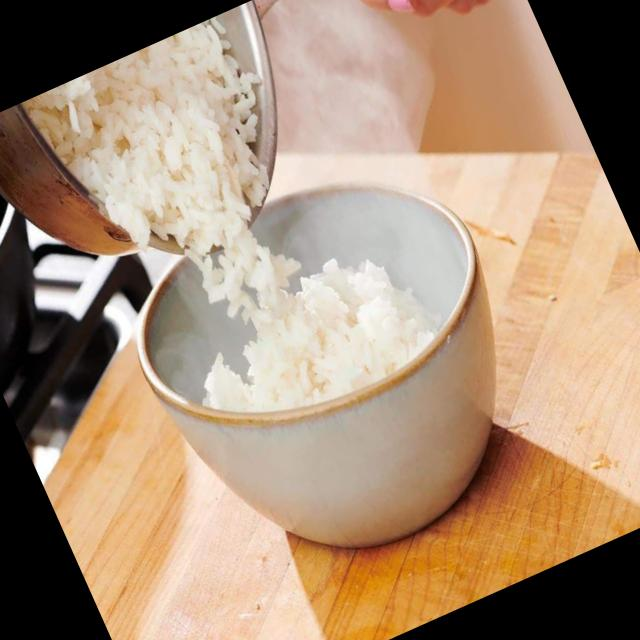rice: (23, 14, 447, 412)
